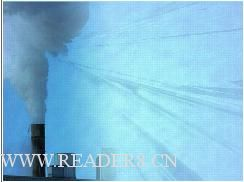dust: (6, 26, 76, 127)
